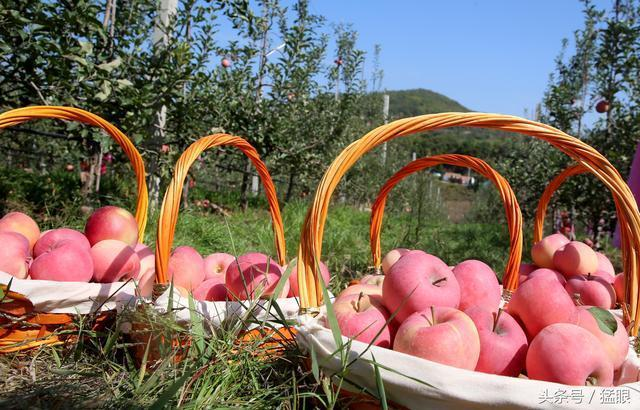apple: (523, 323, 616, 388), (394, 306, 480, 372), (381, 248, 458, 317), (508, 267, 579, 332), (464, 305, 527, 374), (332, 293, 394, 349), (451, 259, 503, 322), (30, 231, 94, 282), (226, 253, 289, 297), (83, 205, 138, 246), (90, 239, 140, 284), (167, 247, 206, 289), (1, 230, 31, 278), (192, 279, 230, 302)
